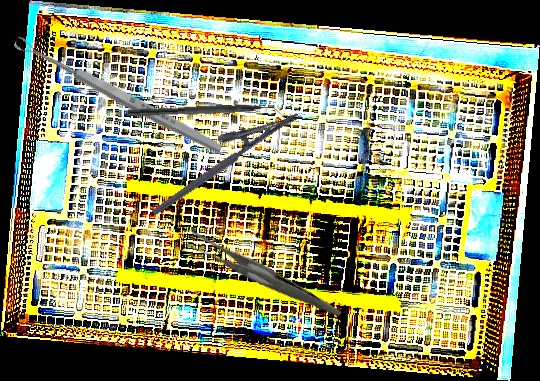Chopper: (126, 100, 287, 128)
Dressing Forceps: (182, 197, 343, 357)
Needle Holder: (137, 91, 302, 218)
Surgical Spoon: (12, 33, 225, 157)
